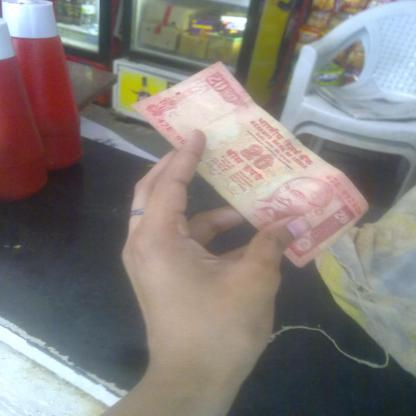Old20Front: (134, 61, 368, 268)
